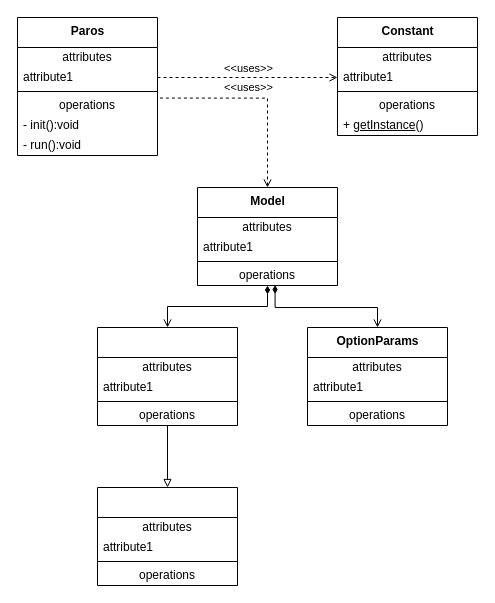
The diagram is 495 pixels wide and 603 high, and some of its shapes have lost their labels. The shapes that lost their labels are listed below. From the top down, each one's box as (x1, y1, x2, y2) in pixels, then its label:
(96, 326, 238, 426): Session
(96, 486, 238, 586): FileXML
